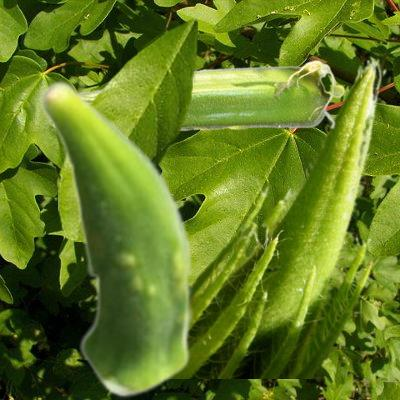okra: (175, 55, 386, 377), (38, 79, 194, 397), (81, 59, 344, 130)
